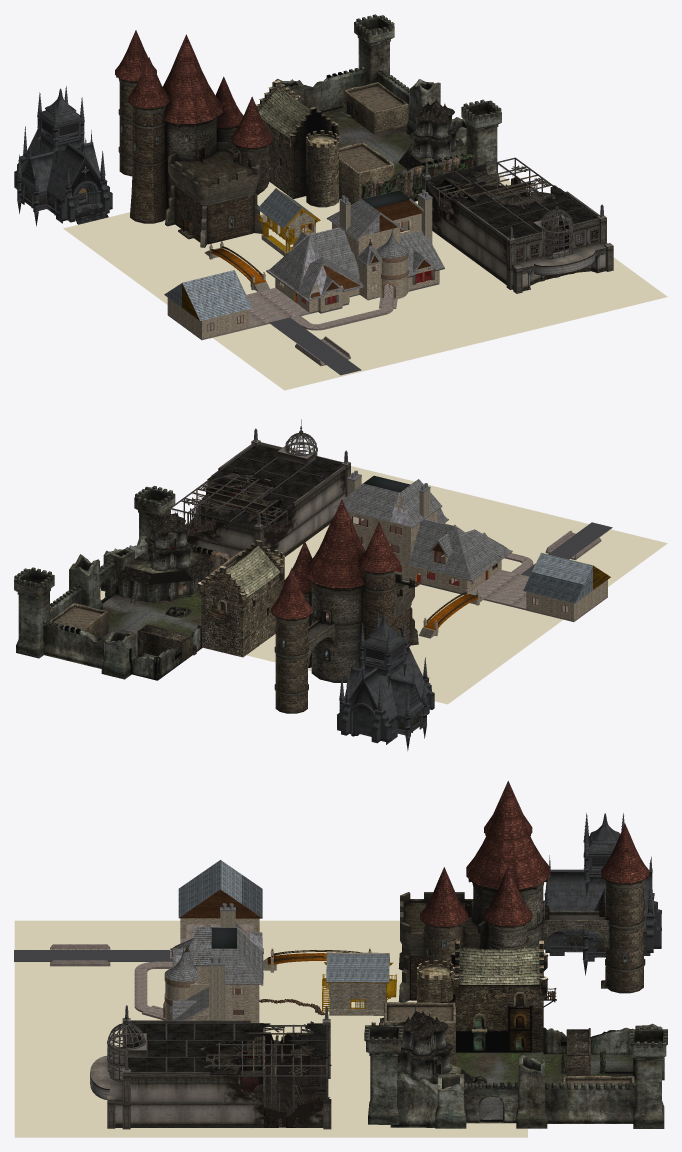
3 renders of one model, top to bottom at view 1: azimuth 30°, elevation 25°; view 2: azimuth 150°, elevation 25°; view 3: azimuth 270°, elevation 25°, orthographic. The views are drawn at different scales.
Visible parts, largest first — view 1: _Fanatik Architecture_ DUNGAN CASTLE (ubODE) (×14), Castle Manor, TLG - ForrestTheater, Terrain 3,6, Terrain 2,6, Terrain 2,7, ruines chateau (×6), prim0-mesh_0 (×4), Castle Ruin, Castle Manor Garage, Castle ruin, prim0-mesh#22 (+9 smaller); view 2: Castle Manor, _Fanatik Architecture_ DUNGAN CASTLE (ubODE) (×9), TLG - ForrestTheater, Terrain 2,7, ruines chateau (×9), Terrain 2,6, Castle Ruin, ARKAIG#16, Castle ruin, PRAVDA dark couture (×4), ruines chateau modif (24), ARKAIG#36 (+8 smaller); view 3: TLG - ForrestTheater, _Fanatik Architecture_ DUNGAN CASTLE (ubODE) (×12), ruines chateau (×11), Terrain 2,6, Castle Manor, Terrain 3,6, Terrain 2,7, Terrain 3,7, ARKAIG#24, Castle ruin, ROOST - Lake Side Boathouse (×2), Castle Ruin (+10 smaller).
Boxes of the visible parts, x1,y1,x2,y2 form: _Fanatik Architecture_ DUNGAN CASTLE (ubODE) (×14): (115, 30, 272, 244); Castle Manor: (164, 189, 444, 366); TLG - ForrestTheater: (421, 157, 613, 293); Terrain 3,6: (407, 242, 667, 343); Terrain 2,6: (212, 285, 475, 390); Terrain 2,7: (63, 189, 322, 304); ruines chateau (×6): (354, 16, 501, 201); prim0-mesh_0 (×4): (339, 82, 408, 204); Castle Ruin: (328, 97, 466, 172); Castle Manor Garage: (182, 270, 252, 320); Castle ruin: (321, 107, 417, 201); prim0-mesh#22: (306, 134, 338, 207); Castle Manor: (333, 470, 607, 636); _Fanatik Architecture_ DUNGAN CASTLE (ubODE) (×9): (271, 499, 399, 713); TLG - ForrestTheater: (170, 419, 350, 556); Terrain 2,7: (257, 589, 557, 704); ruines chateau (×9): (14, 487, 181, 679); Terrain 2,6: (402, 497, 667, 623); Castle Ruin: (118, 510, 215, 604); ARKAIG#16: (201, 565, 245, 657); Castle ruin: (101, 592, 202, 680); PRAVDA dark couture (×4): (354, 614, 428, 736); ruines chateau modif (24): (43, 621, 105, 668); ARKAIG#36: (245, 574, 279, 655); TLG - ForrestTheater: (107, 1007, 331, 1129); _Fanatik Architecture_ DUNGAN CASTLE (ubODE) (×12): (400, 786, 649, 993); ruines chateau (×11): (366, 1025, 666, 1128); Terrain 2,6: (14, 920, 271, 1029); Castle Manor: (50, 860, 371, 1022); Terrain 3,6: (14, 1029, 271, 1137); Terrain 2,7: (271, 920, 416, 1029); Terrain 3,7: (271, 1029, 527, 1137); ARKAIG#24: (459, 985, 539, 1052); Castle ruin: (456, 1052, 635, 1123); ROOST - Lake Side Boathouse (×2): (326, 952, 389, 1009); Castle Ruin: (397, 973, 480, 1107).
Size of what is drawn, in the model's own units: 133 by 60.26 by 163.
Materials: 601 (588 with a texture image).
